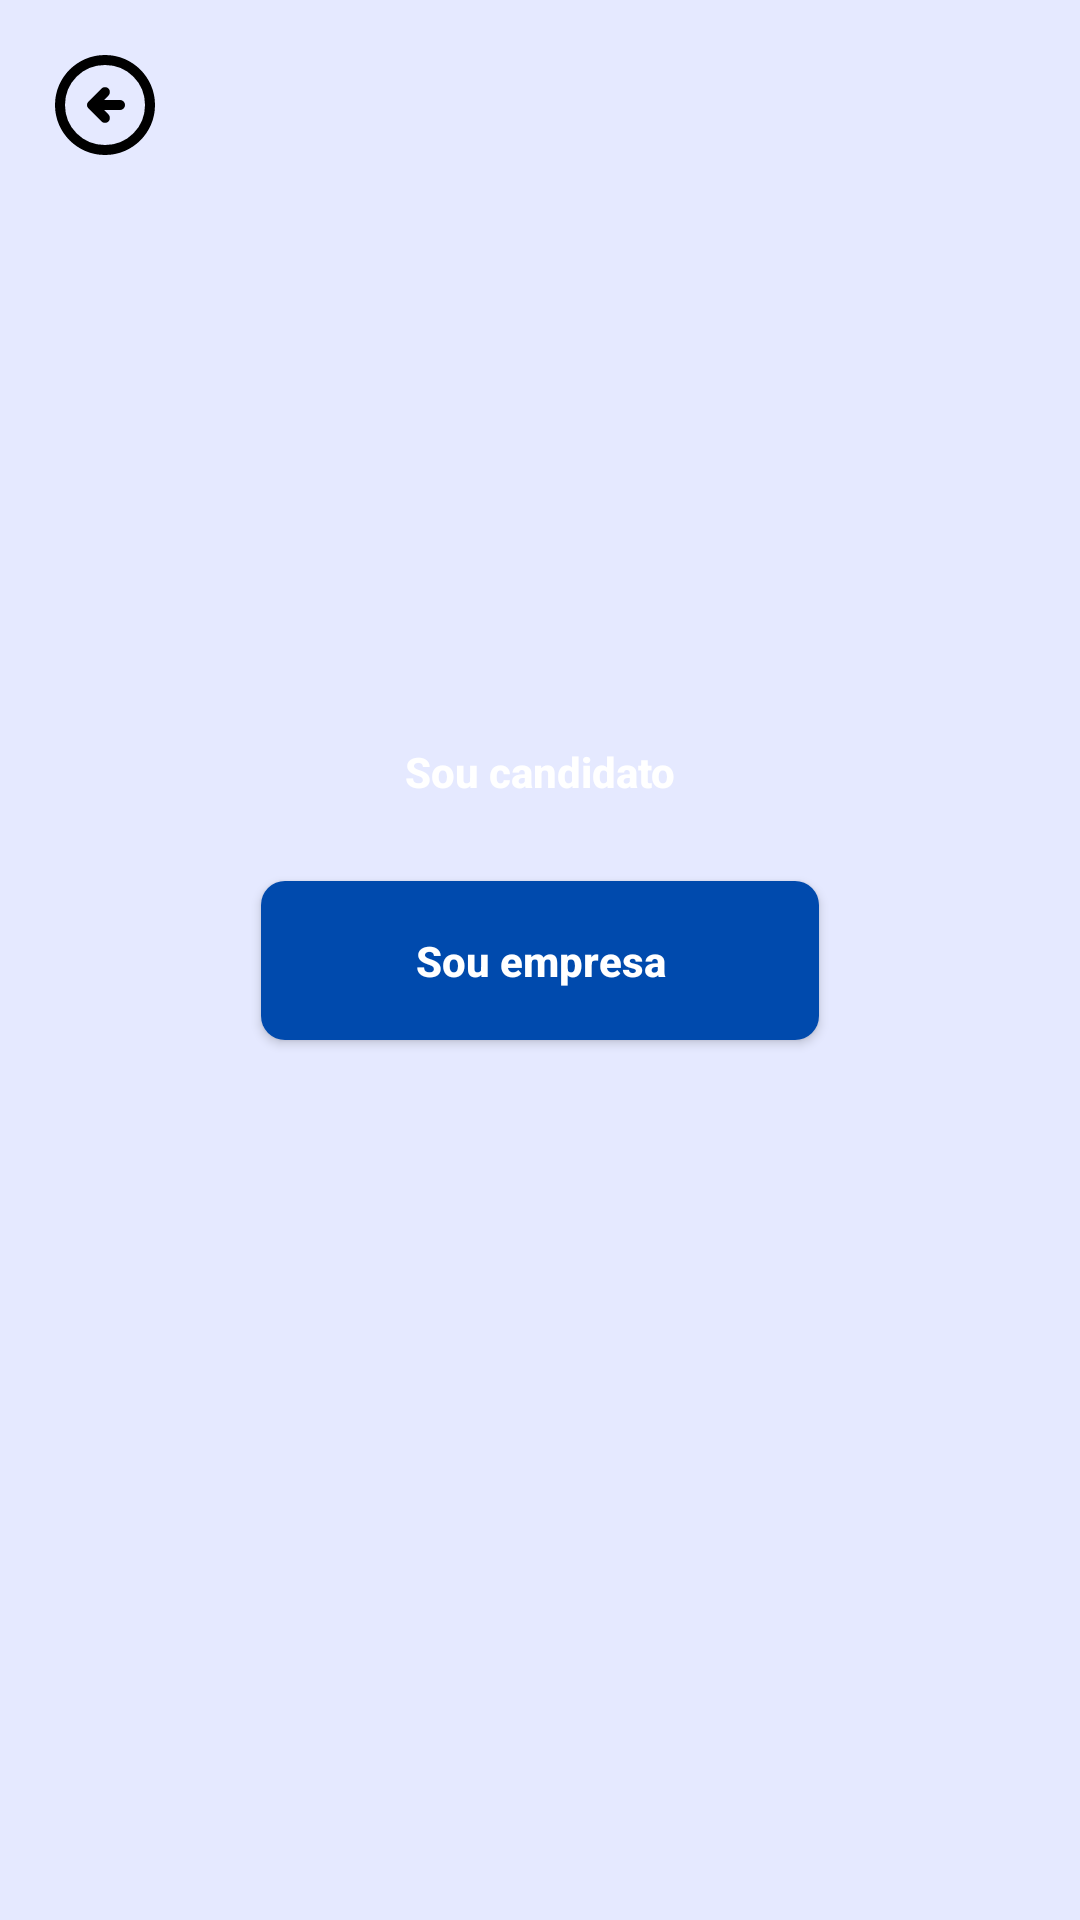

Named icons in this screenshot (1080x1920) and their centers, (x,y):
back: (105,105)
